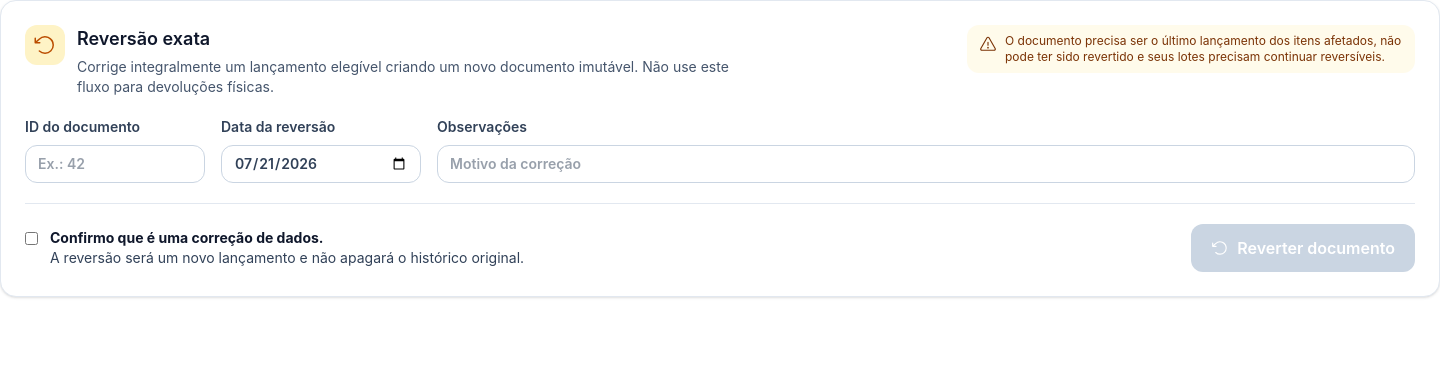
Test case: ExactReversalForm › shows backend eligibility failures
In the field labelled "ID do documento": (115, 164) [25, 145, 205, 183], type "41"
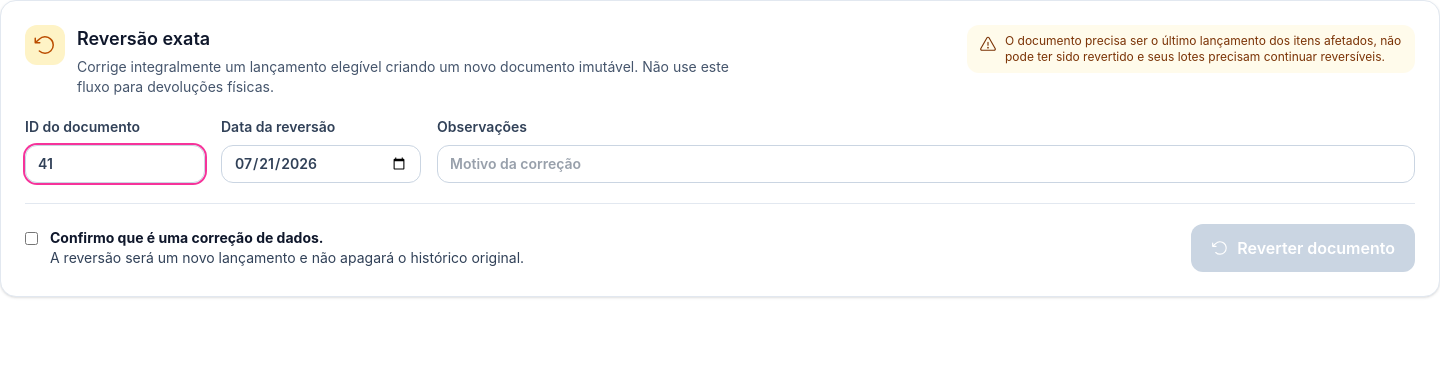
Click the checkbox labelled "Confirmo que é uma correção de dados": (32, 238) [25, 232, 38, 245]
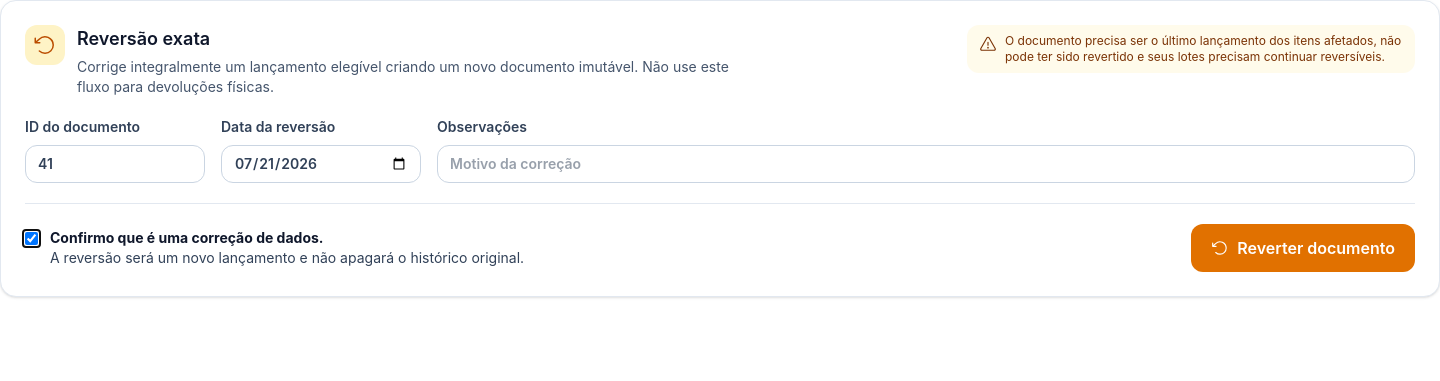
Click the button "Reverter documento": (1303, 248) [1191, 224, 1415, 272]
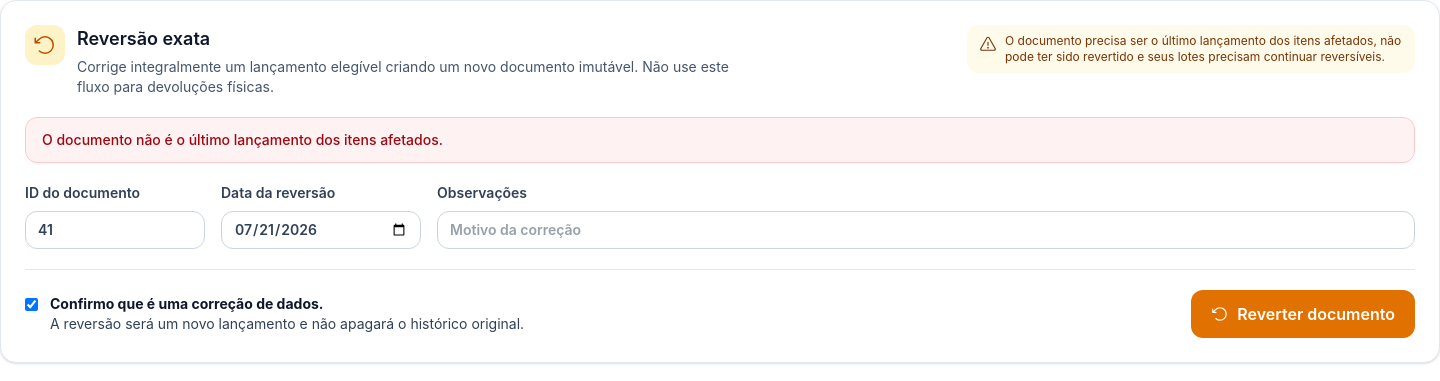
Now the message reads "O documento não é o último lançamento dos itens afetados.", box [42, 131, 443, 148]
